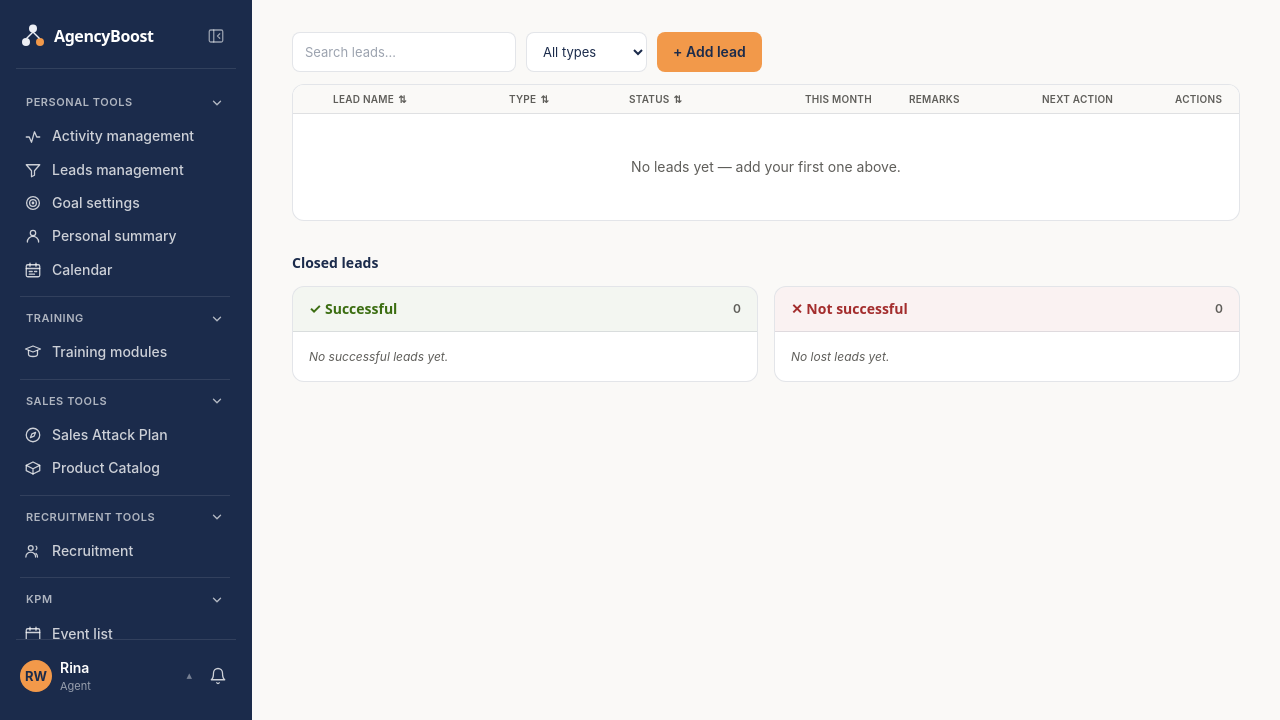
Scenario: LeadsTable, with the coaching card’s toolbar (P10.1-T4 AC-12) › says nothing matches — not that there is nothing — once it is narrowed
Expected: the text "No leads yet — add your first one above." is shown, [631,158,901,175]
Select "Sales" in the dropdown named "Filter by type" at (586, 52), box [526,32,647,72]
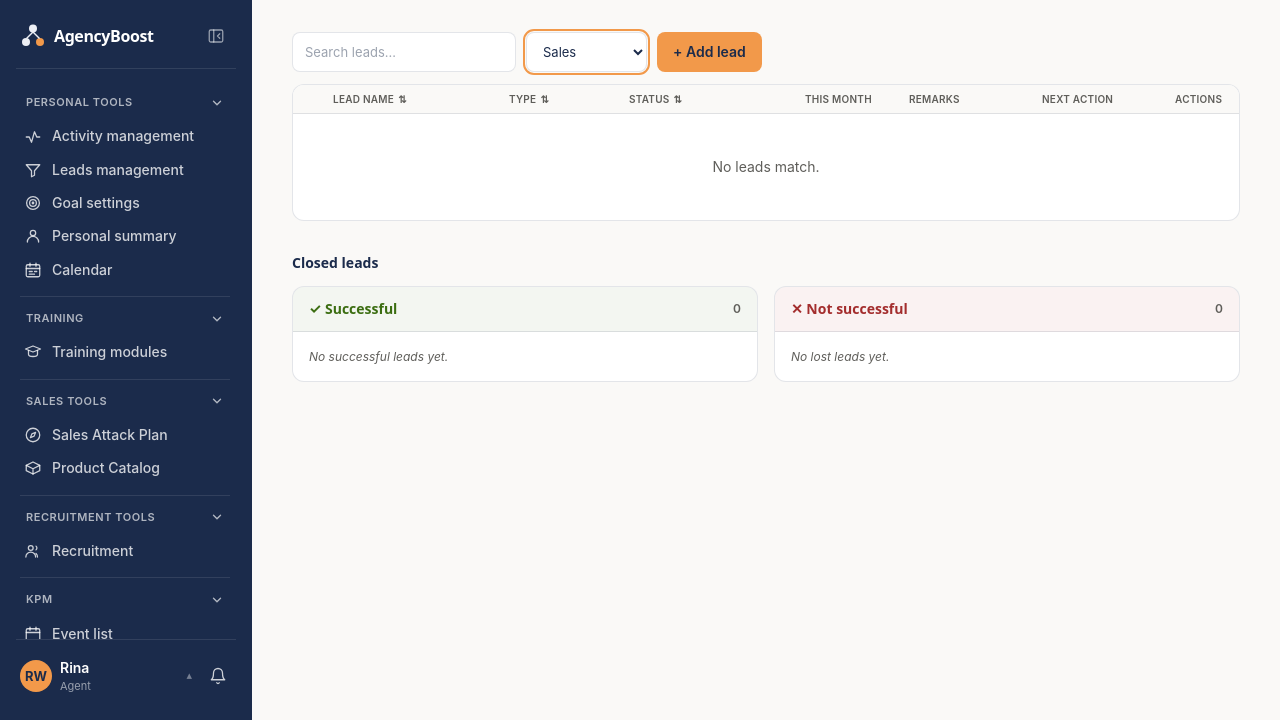
Result: the text "No leads match." is shown at [712,158,820,175]
